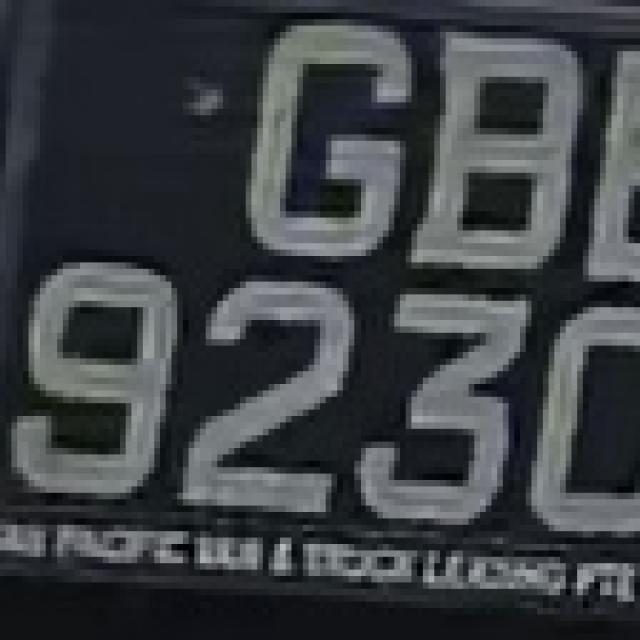2: (177, 256, 366, 531)
3: (343, 275, 531, 563)
9: (6, 224, 171, 538)
B: (411, 6, 600, 301)
G: (228, 7, 428, 282)
